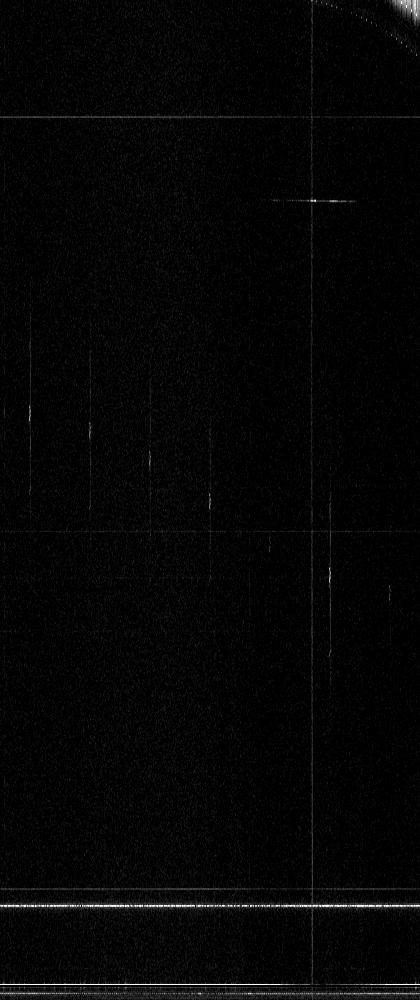signal: (0, 0, 419, 999)
